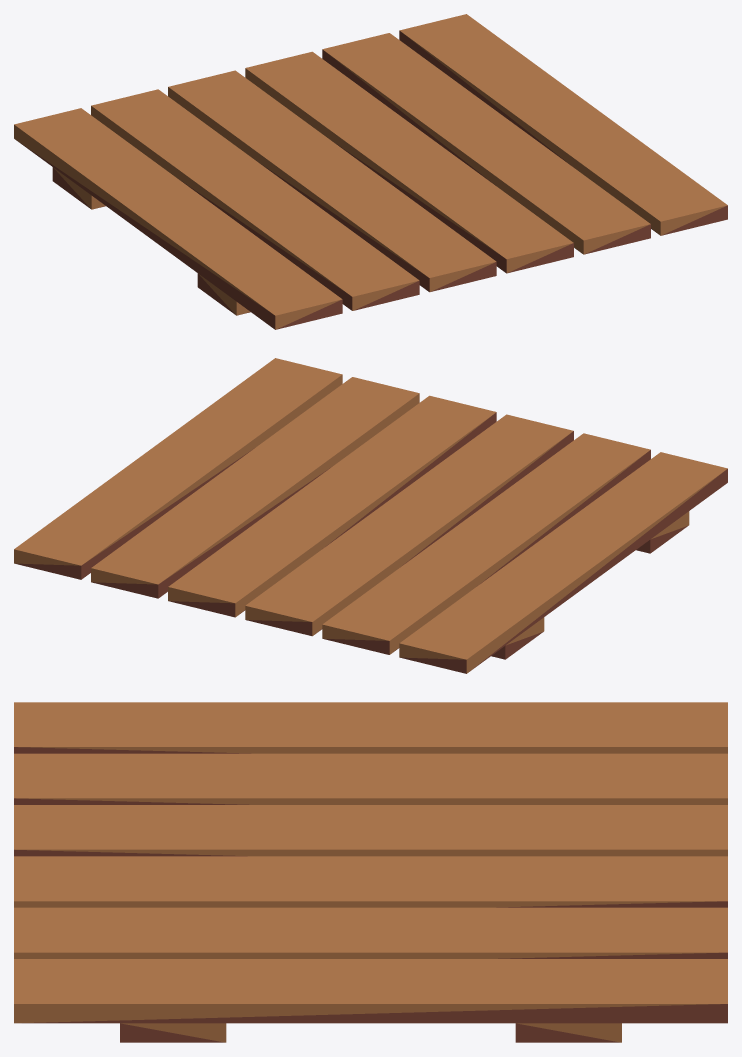
The picture shows the model from 3 angles, top to bottom: view 1: azimuth 30°, elevation 25°; view 2: azimuth 150°, elevation 25°; view 3: azimuth 270°, elevation 25°; orthographic projection. The views are drawn at different scales.
Visible parts, largest first — view 1: model; view 2: model; view 3: model.
Part boxes in pixels (left/top/right/bottom): model: left=14, top=14, right=727, bottom=329; model: left=14, top=358, right=727, bottom=673; model: left=14, top=702, right=727, bottom=1042.
Size of the model in its own units: 2 by 0.12 by 2.
